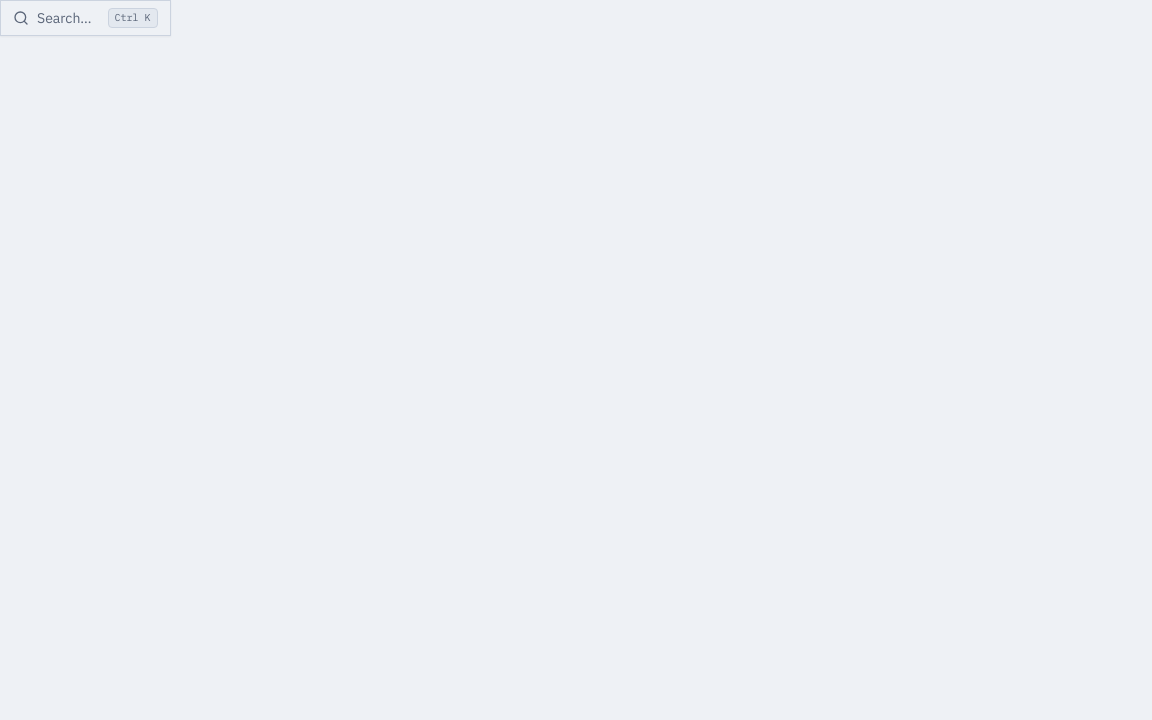
Test: CommandMenu › shows an empty state when nothing matches
Press k
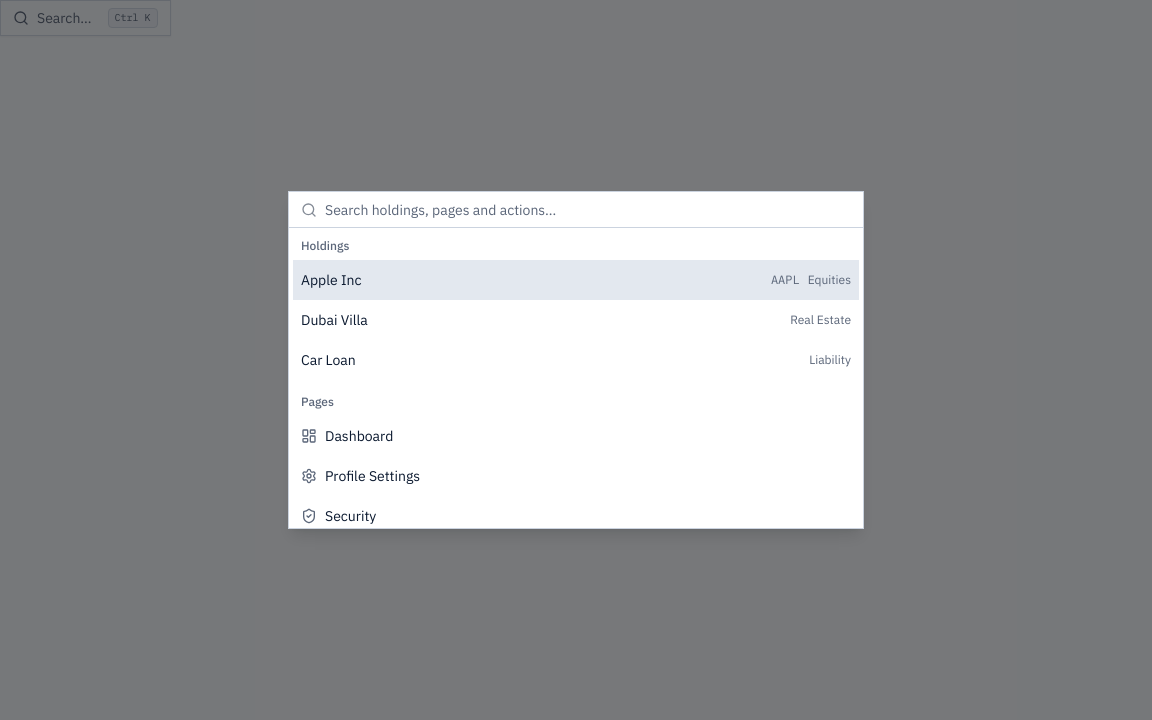
Type "zzzzqq" into the dropdown. click: [588, 210]
box: [325,190,851,230]
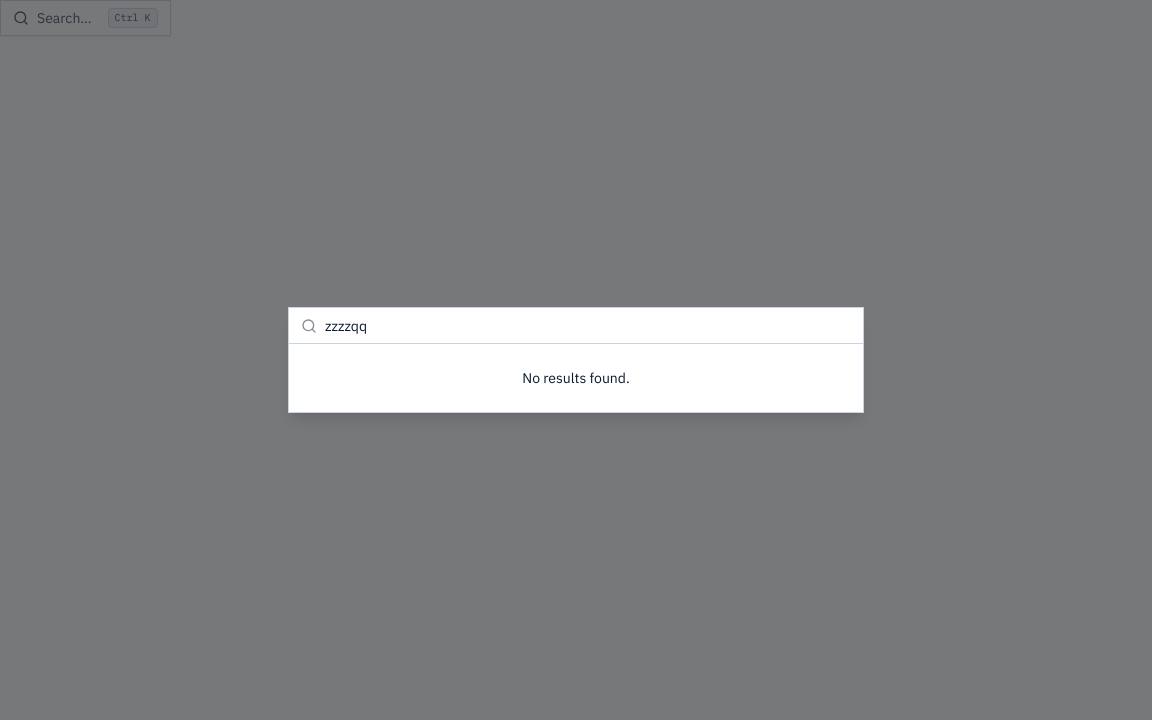
Expected: the text "No results found." is shown, [522,369,630,387]
